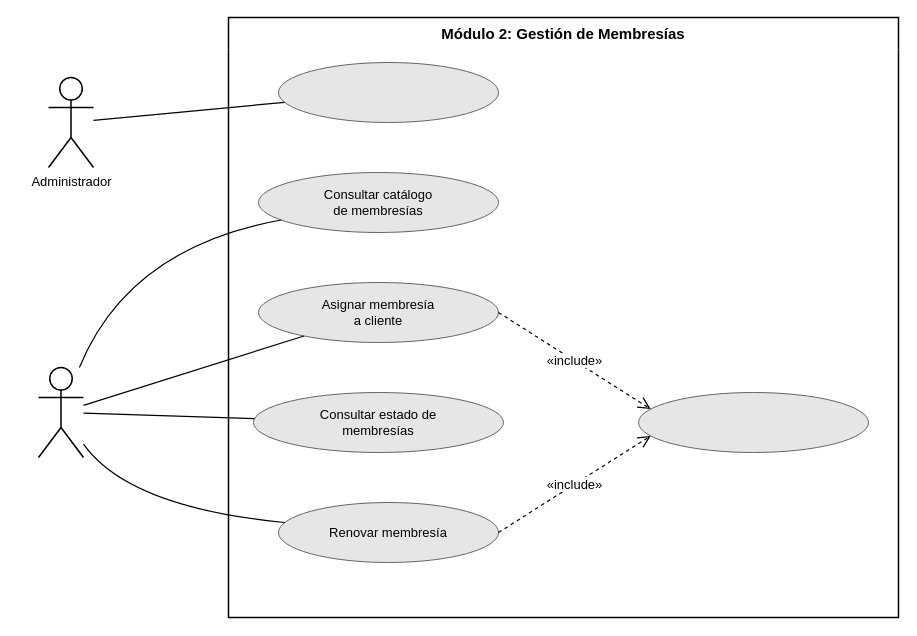
The diagram is 917 pixels wide and 636 high, and some of its shapes have lost their labels. Each missing label, with the box of its shape:
Administrador / Recepcionista: (37, 366, 84, 458)
Calcular fecha de vencimiento: (638, 392, 868, 452)
Crear tipo de membresía: (278, 62, 498, 122)
